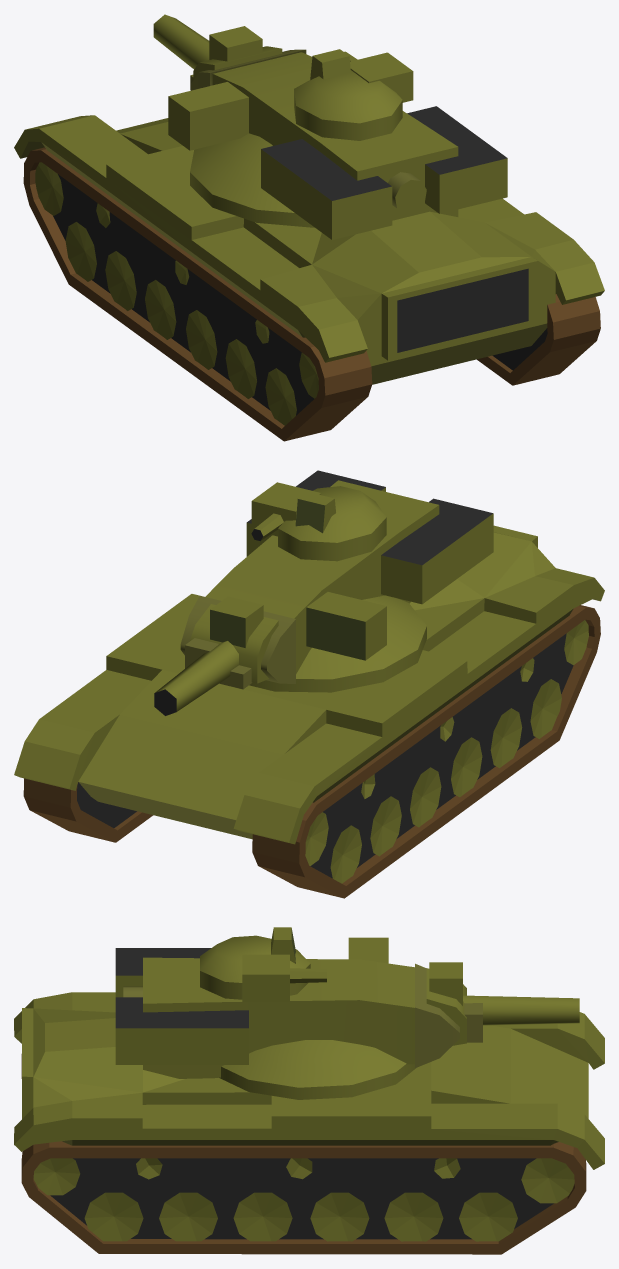
The picture shows the model from 3 angles, top to bottom: view 1: azimuth 30°, elevation 25°; view 2: azimuth 150°, elevation 25°; view 3: azimuth 270°, elevation 25°; orthographic projection. The views are drawn at different scales.
Parts seen in each view (by area): view 1: hull.002, m60a2_turret.001, barrel; view 2: hull.002, m60a2_turret.001, barrel; view 3: hull.002, m60a2_turret.001, barrel.
Part boxes in pixels (left/top/right/bottom): hull.002: left=14, top=115, right=604, bottom=441; m60a2_turret.001: left=168, top=49, right=507, bottom=239; barrel: left=153, top=14, right=282, bottom=90; hull.002: left=14, top=525, right=604, bottom=898; m60a2_turret.001: left=180, top=470, right=493, bottom=692; barrel: left=154, top=596, right=278, bottom=715; hull.002: left=14, top=992, right=604, bottom=1254; m60a2_turret.001: left=115, top=927, right=459, bottom=1099; barrel: left=426, top=962, right=579, bottom=1045.
Bounding box in the file's own units: 0.5046 × 0.4877 × 1.
